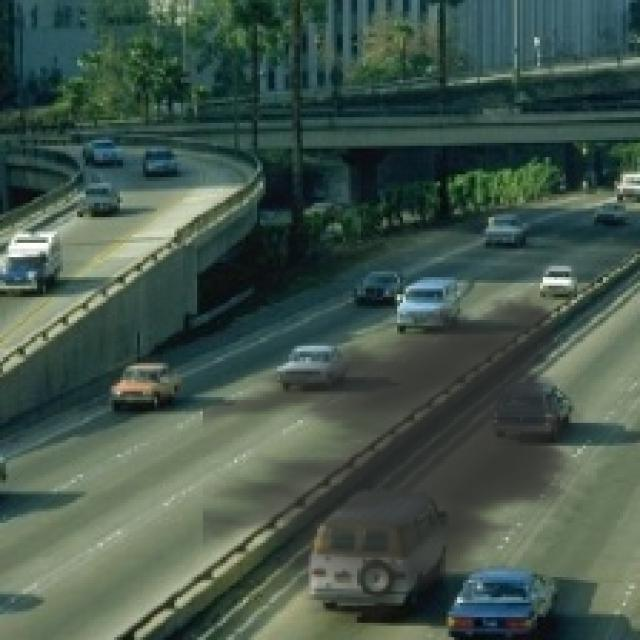Smoke: (202, 280, 594, 634)
